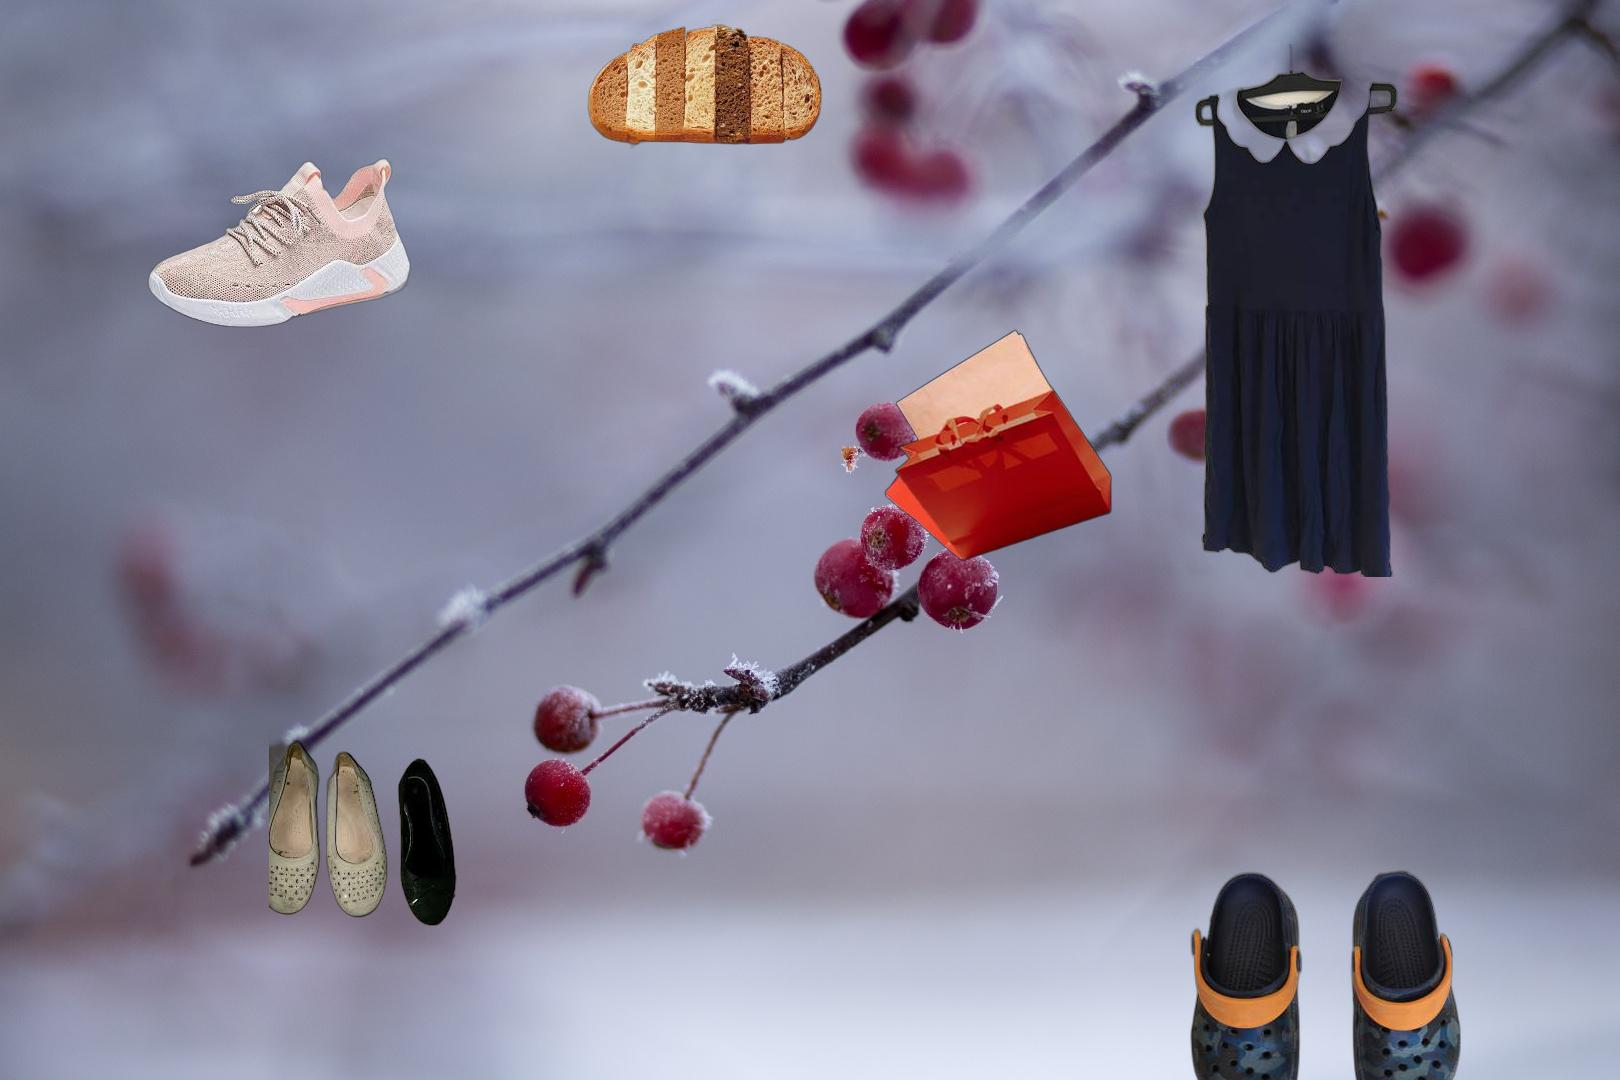biological: (585, 18, 824, 149)
clothes: (1191, 45, 1401, 577)
paper-bag: (882, 327, 1114, 564)
shoes: (1188, 865, 1463, 1080), (146, 158, 413, 330), (269, 732, 459, 928)
